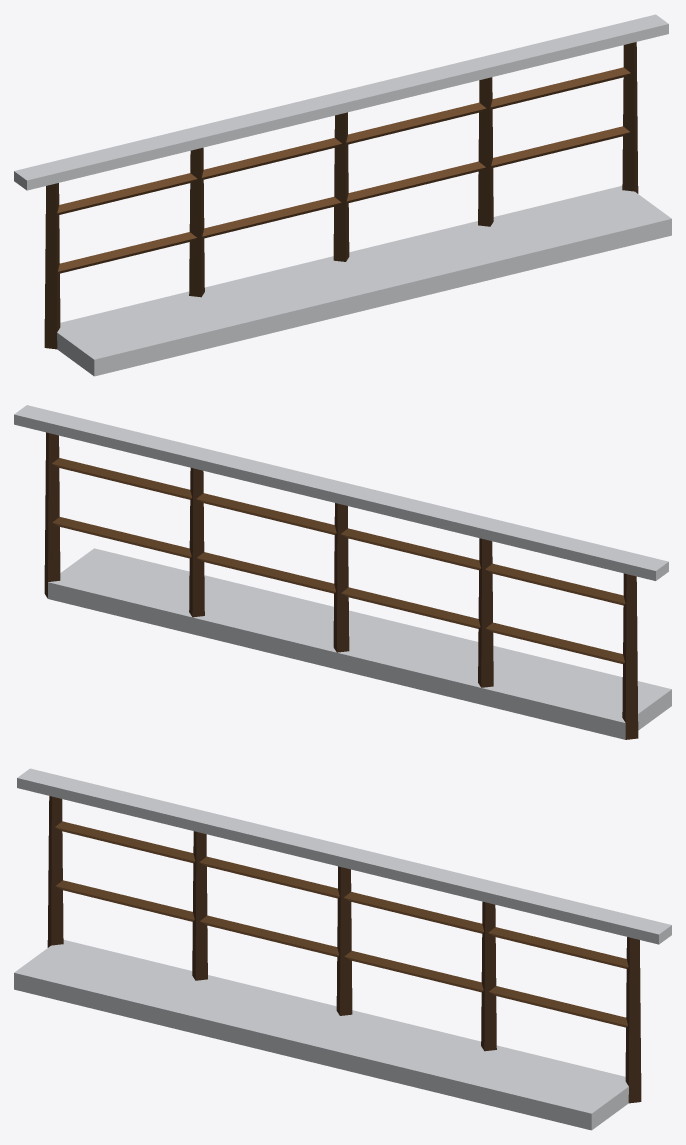
File: a3g_snow_fence.glb
3 views of the same model, one above another, from view 1: azimuth 30°, elevation 25°; view 2: azimuth 150°, elevation 25°; view 3: azimuth 330°, elevation 25° (orthographic).
Visible parts, largest first — view 1: a3g_snow_fence; view 2: a3g_snow_fence; view 3: a3g_snow_fence.
Part boxes in pixels (bbox=[...]): a3g_snow_fence: bbox=[14, 14, 671, 376]; a3g_snow_fence: bbox=[14, 405, 671, 739]; a3g_snow_fence: bbox=[14, 768, 671, 1130].
Size of the model in its own units: 4 by 1.06 by 0.52.
